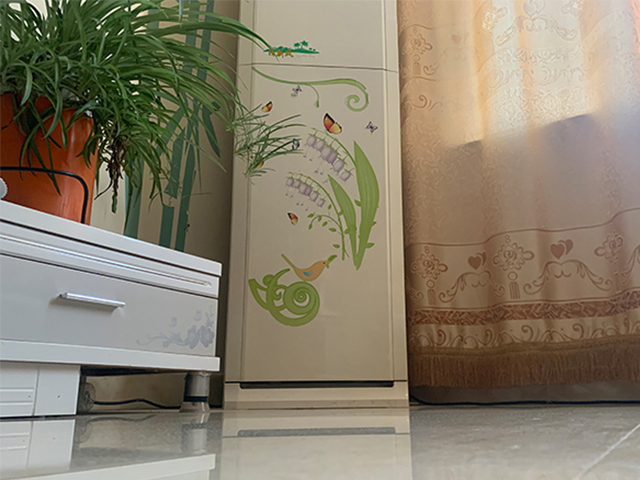cabinet: (1, 199, 224, 419)
curtain: (397, 1, 640, 387)
wire: (407, 394, 640, 408)
